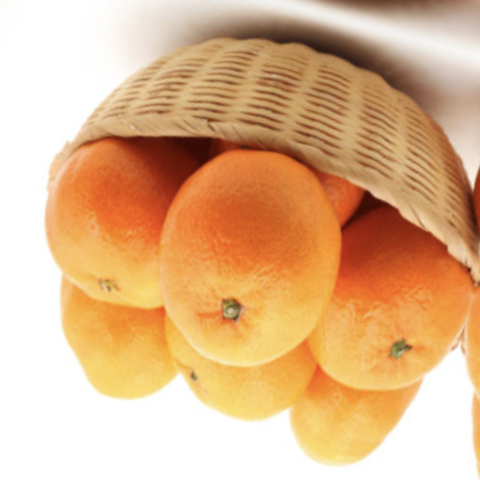orange: (120, 127, 369, 395), (0, 108, 234, 338), (285, 171, 480, 428)
